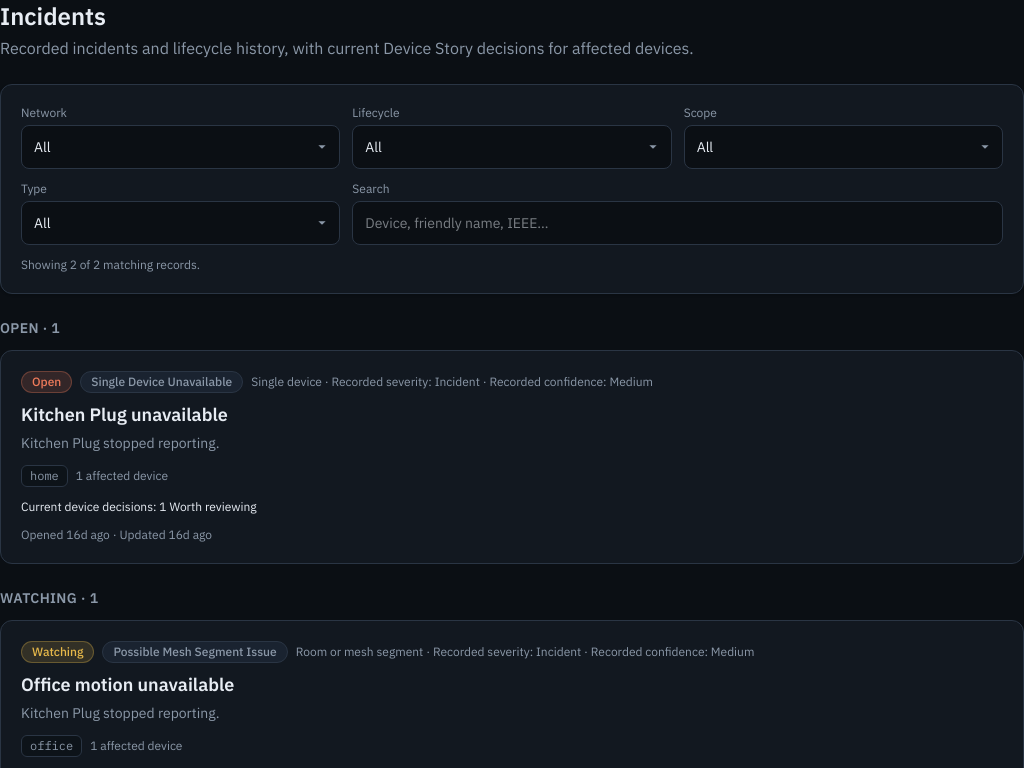
Test: IncidentsPage list › filters by network/lifecycle/type/scope/search without severity filter
expect the heading "Kitchen Plug unavailable" is shown: met, box [21,403,228,426]
Select "office" in the dropdown labelled "Network" at {"x": 181, "y": 147}, box [21,125,340,169]
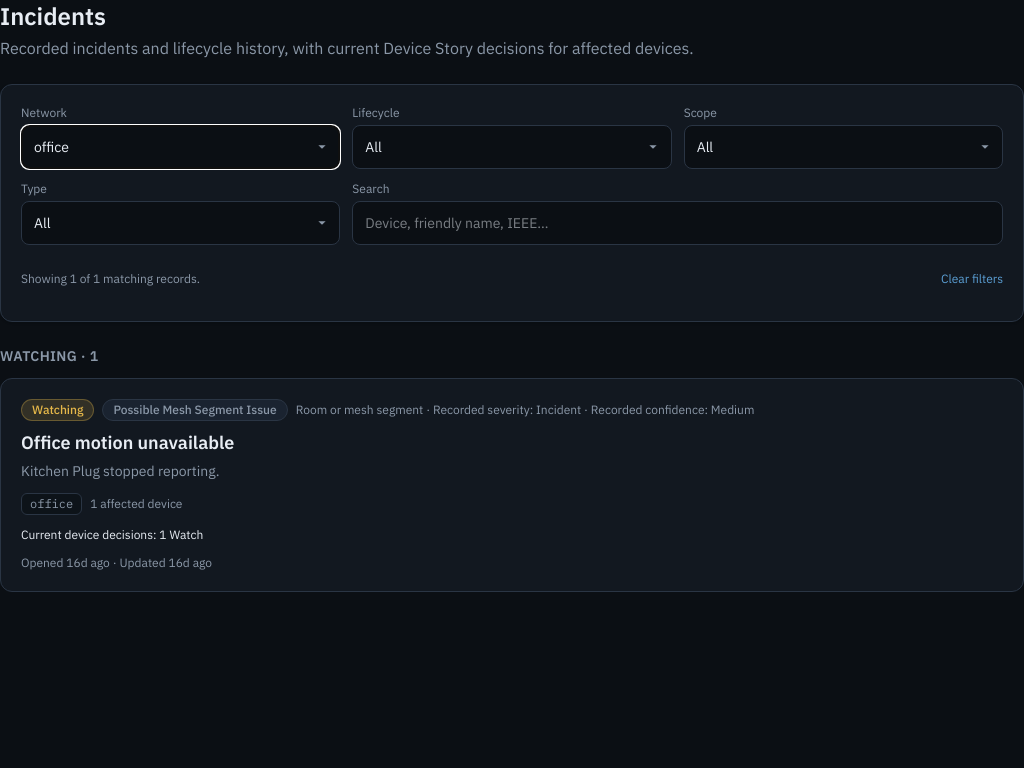
expect the heading "Office motion unavailable" is shown: met, box [21,431,234,454]
expect the link "Kitchen Plug unavailable" is gone: met
